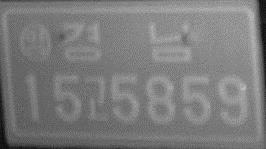1: (21, 73, 46, 123)
5: (109, 71, 140, 126), (179, 74, 212, 125), (53, 72, 83, 123)
8: (145, 73, 177, 125)
9: (216, 73, 249, 127)
경남_D: (58, 18, 196, 65)
고: (82, 75, 109, 124)
영: (19, 23, 53, 62)
